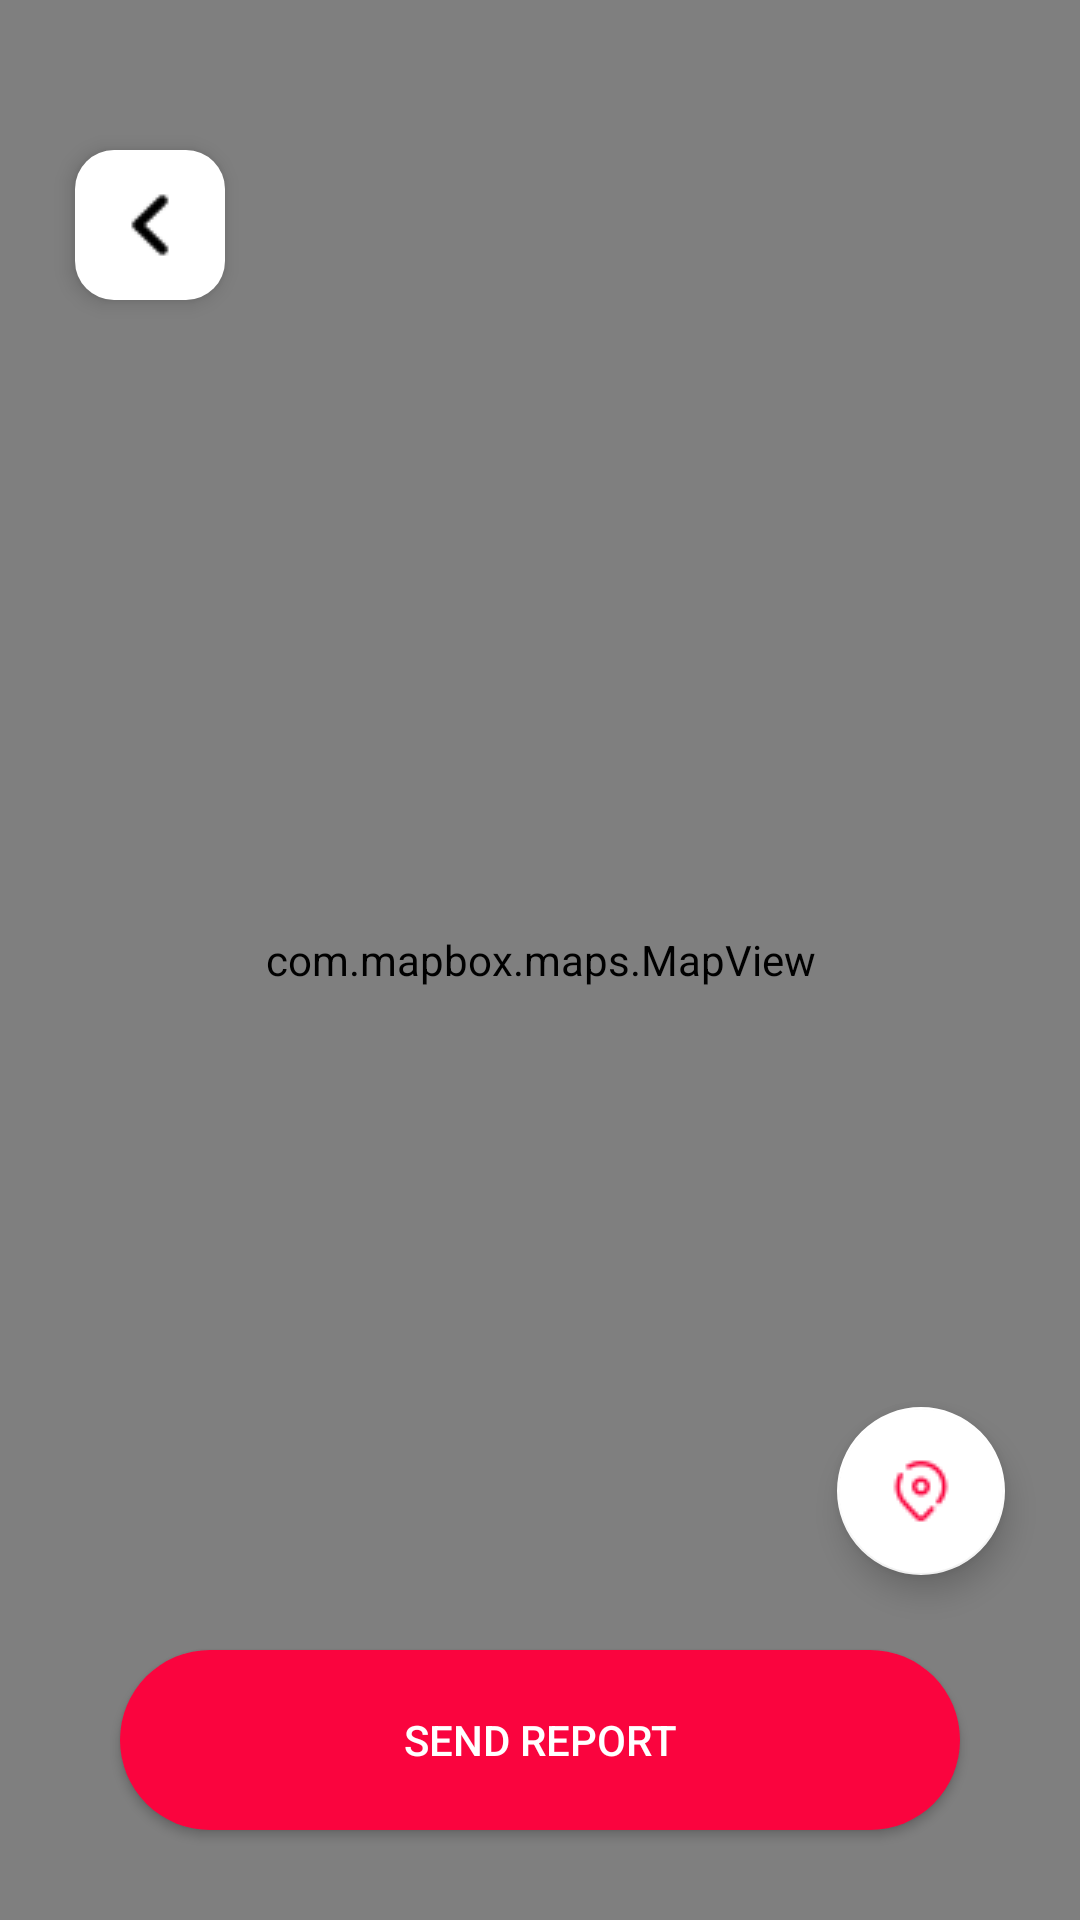

Named icons in this screenshot (1080×1920) and their centers, (x,y):
Back: (150,225)
location: (921,1491)
